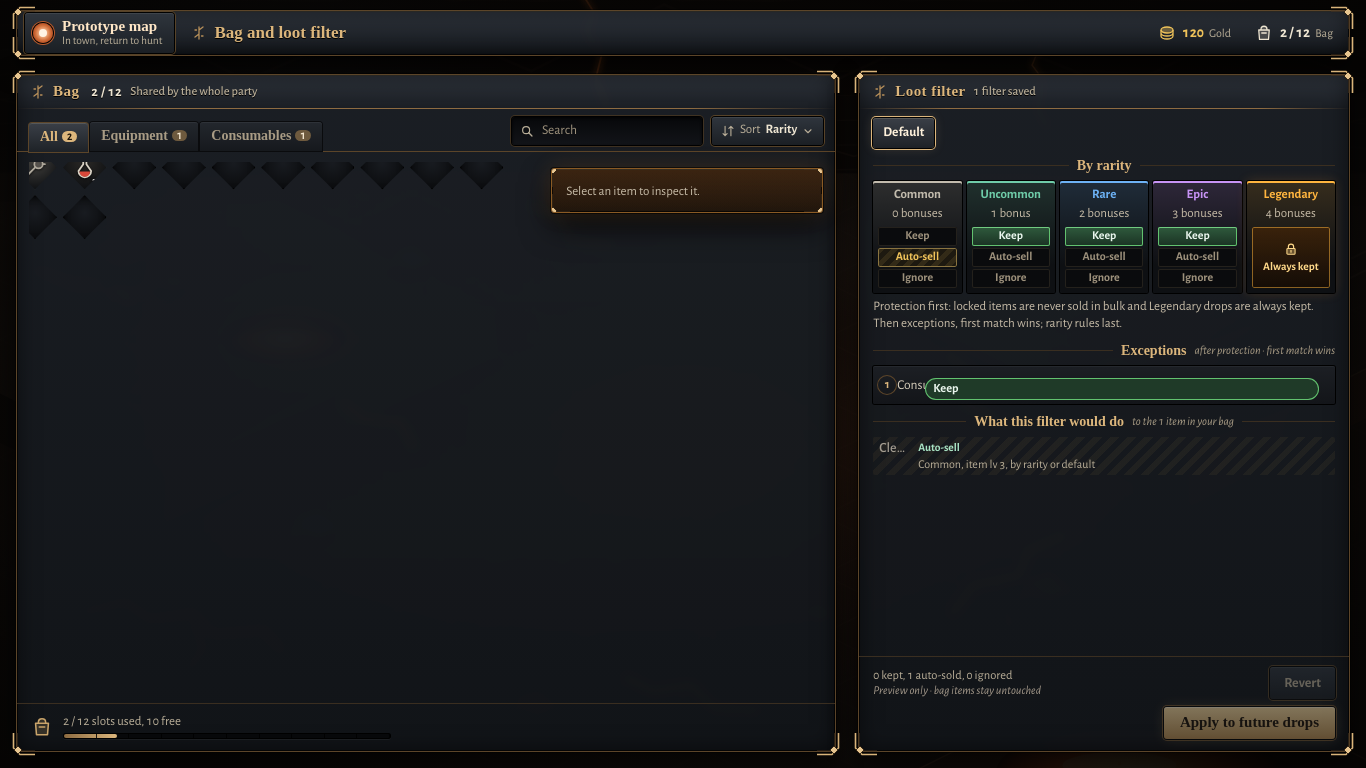
B-12: comparison against a real character and slot › a class restriction is stated for a character who cannot use the item
Click the button named ",".
click(35, 168)  # box [13,146,57,189]
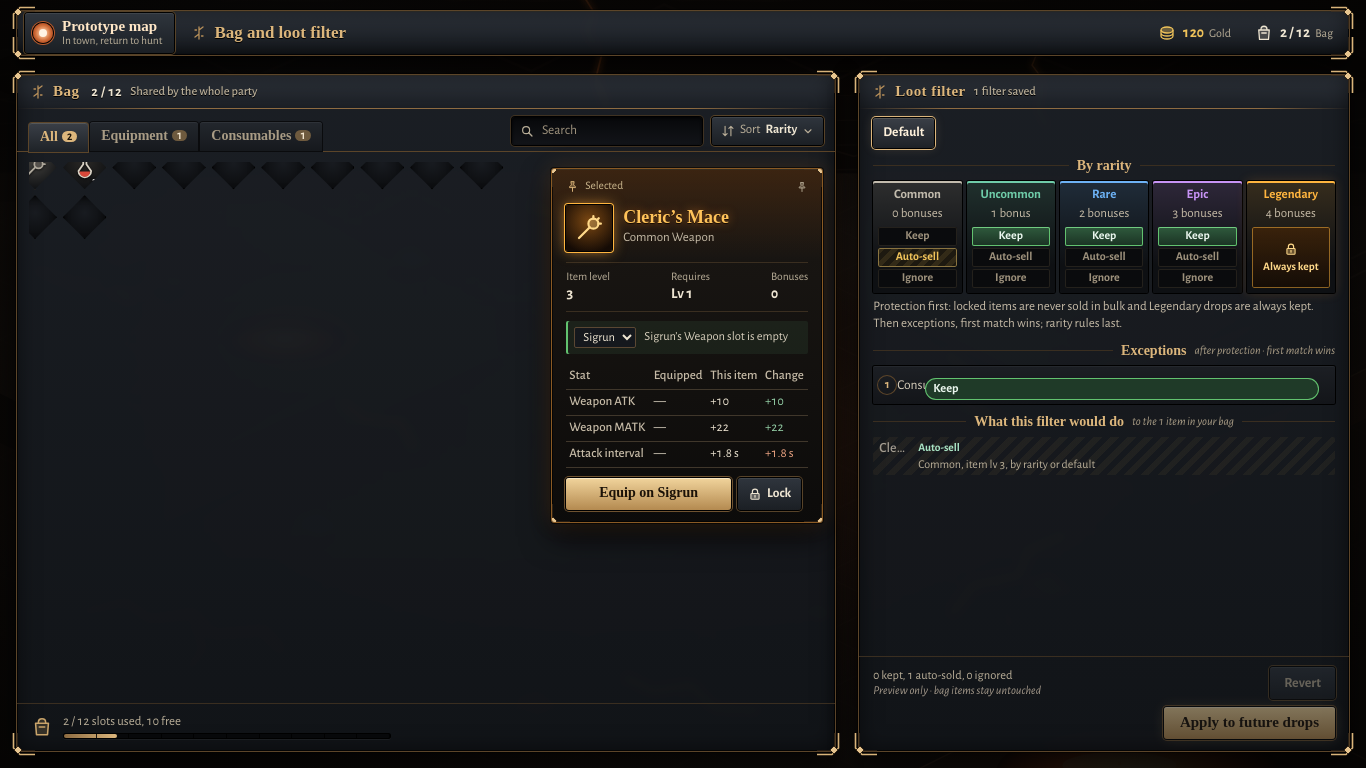
Select "Kaio" in the dropdown named "Compare with" at x=605, y=337, box [574,327,636,348]
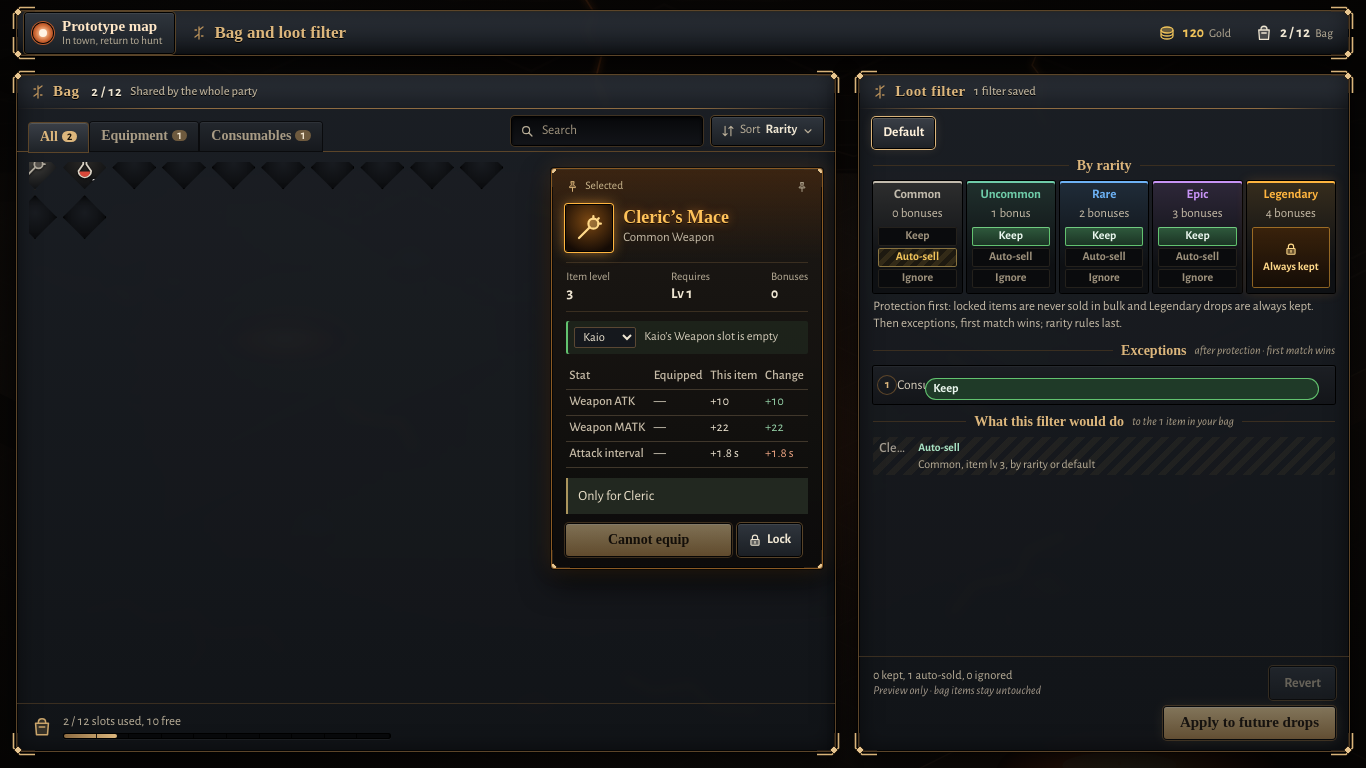
Check: the button "Cannot equip" is disabled, box [566,524,731,556]
